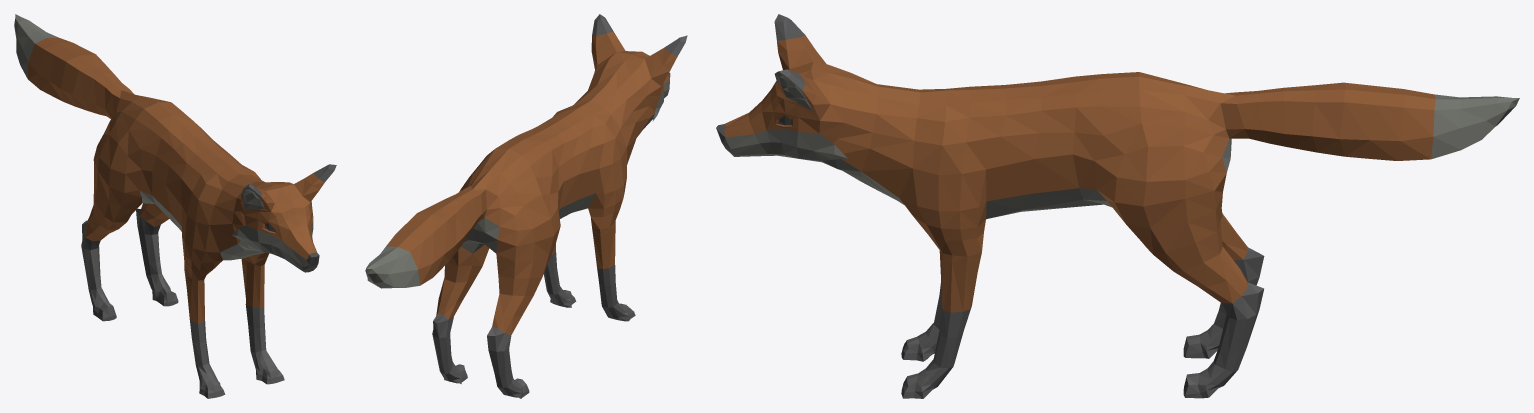
The model's file is spuerfuchs.glb.
3 views of the same model, side by side, from view 1: azimuth 30°, elevation 25°; view 2: azimuth 150°, elevation 25°; view 3: azimuth 270°, elevation 25° (orthographic). The views are drawn at different scales.
Visible parts, largest first — view 1: Fox; view 2: Fox; view 3: Fox.
Boxes of the visible parts, <box> form: Fox: <box>14,14,336,398</box>; Fox: <box>365,14,687,398</box>; Fox: <box>716,14,1519,398</box>.
Bounding box in the file's own units: 0.3966 × 1 × 2.2.
